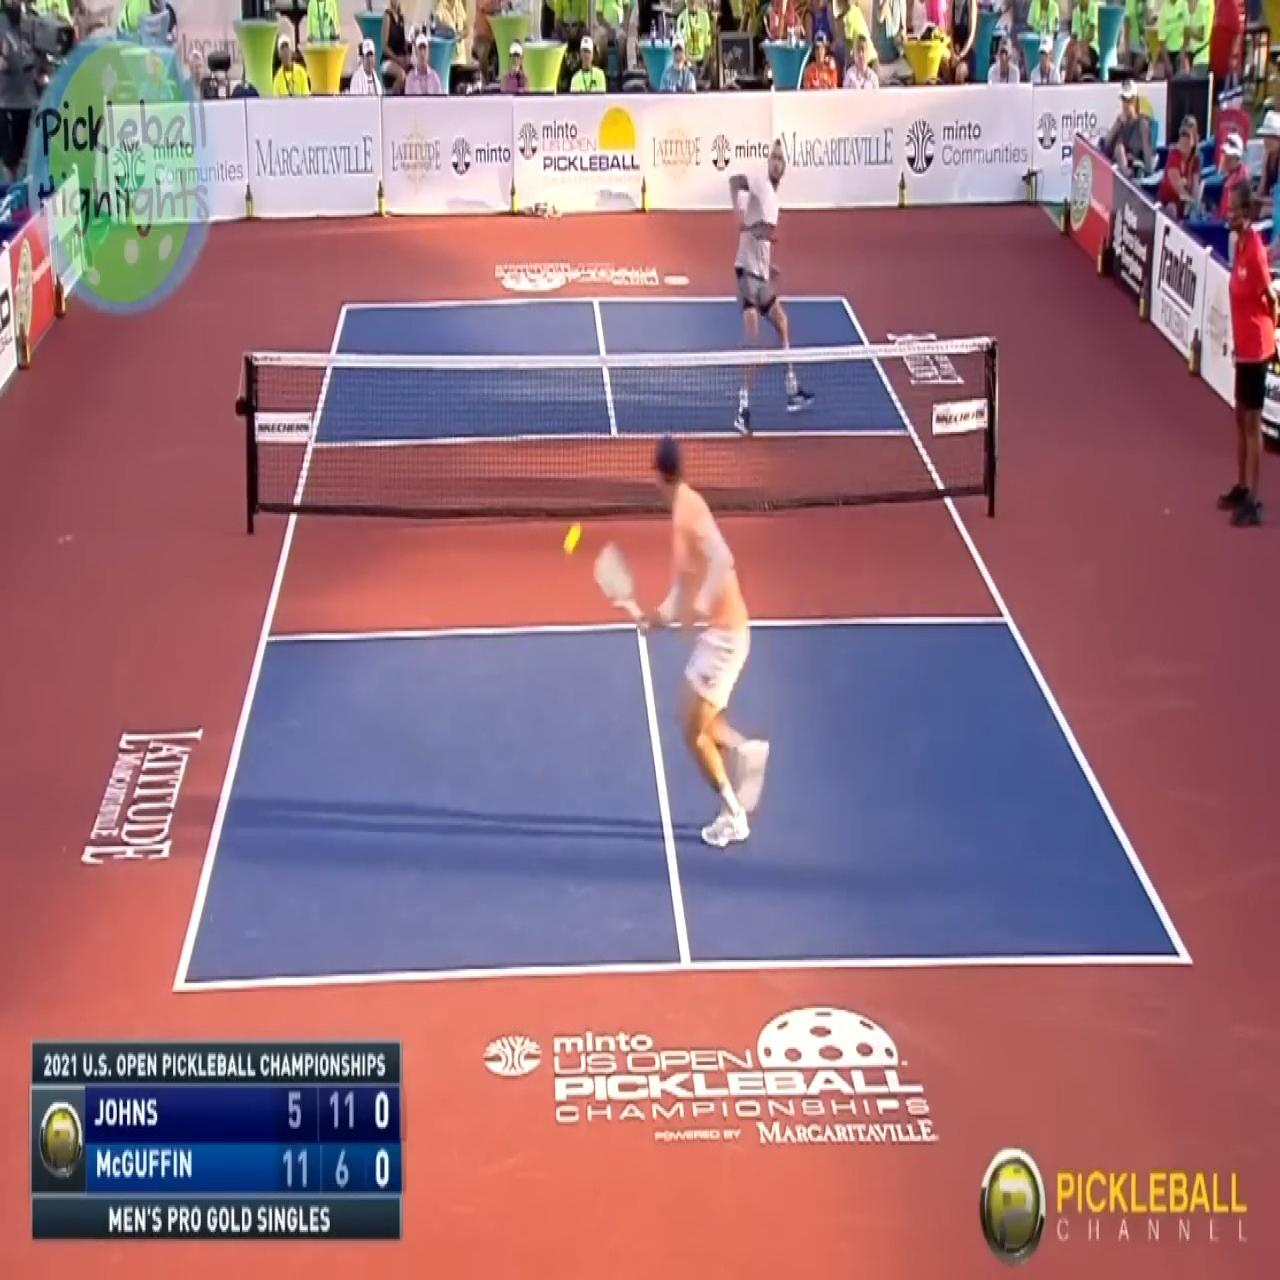pickleball: (564, 524, 581, 553)
